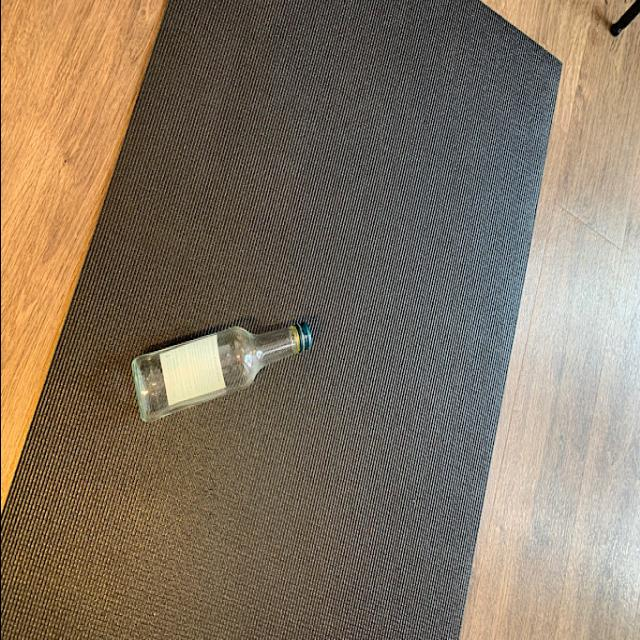litter: (130, 311, 312, 425)
